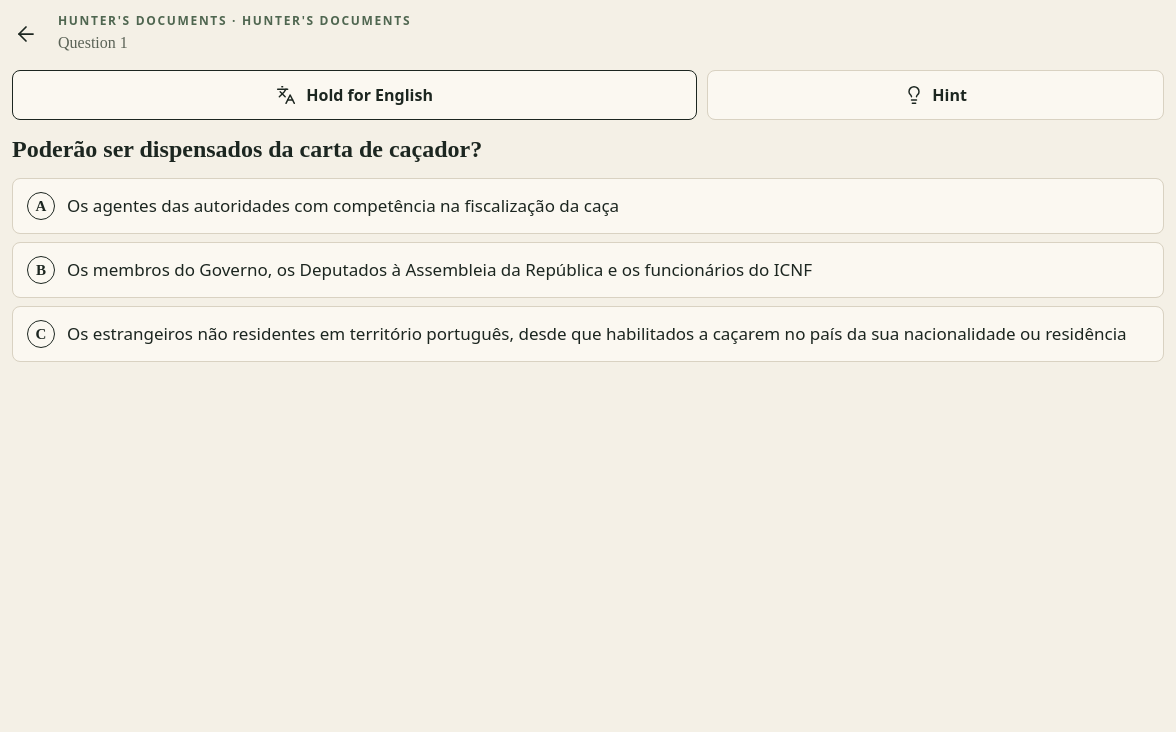
the flags row (D2) › a tap on Hint is off stores one hint flag with an empty note and opens the note field; Save stores the note; a second tap removes it
Click the 3rd button at (588, 206), box [12,178,1164,234]
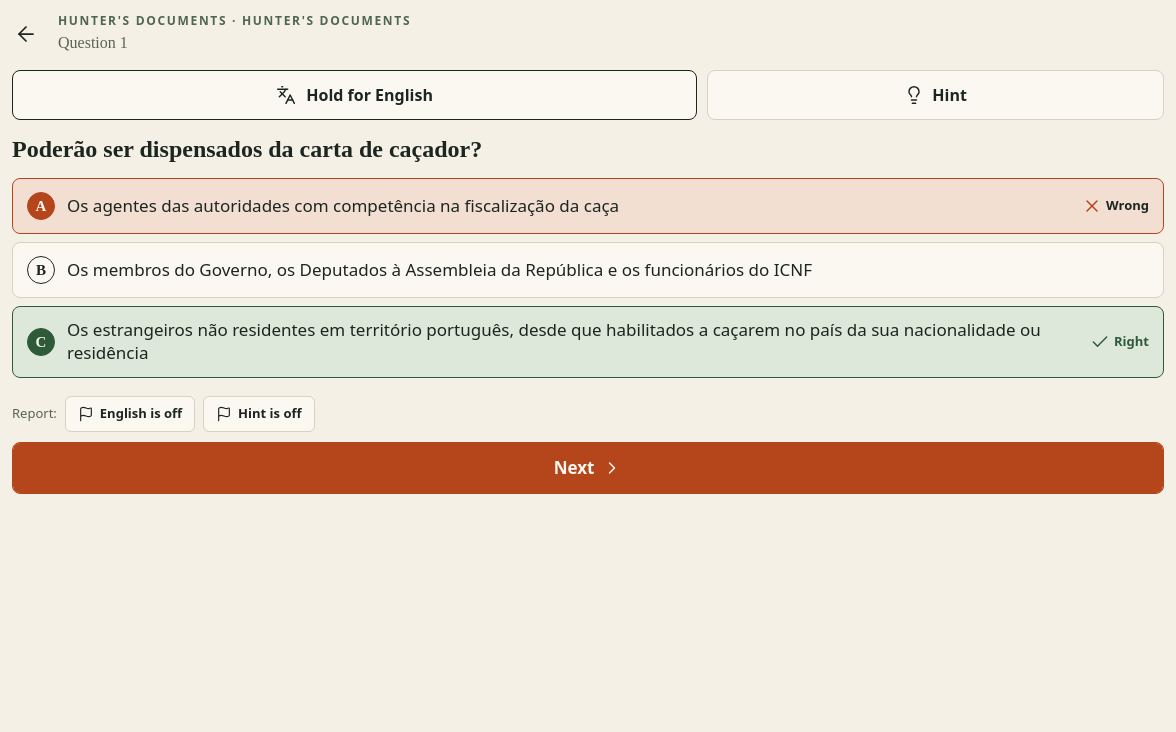
Check: the button "Hint is off" is enabled
Click the button "Hint is off" at (259, 414), box [203,396,314,432]
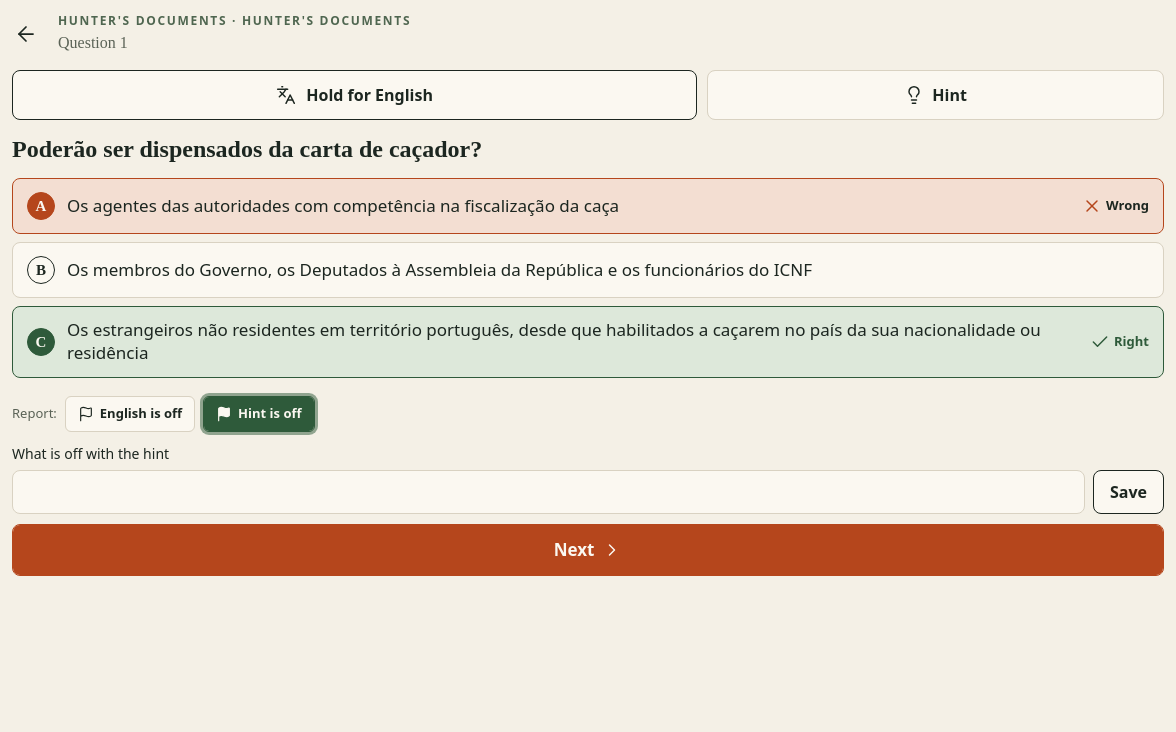
Check: the button "Hint is off" is pressed, box [203,396,314,432]
Type "wrong verb" into the field labelled "What is off with the hint" at (548, 492), box [12,470,1085,514]
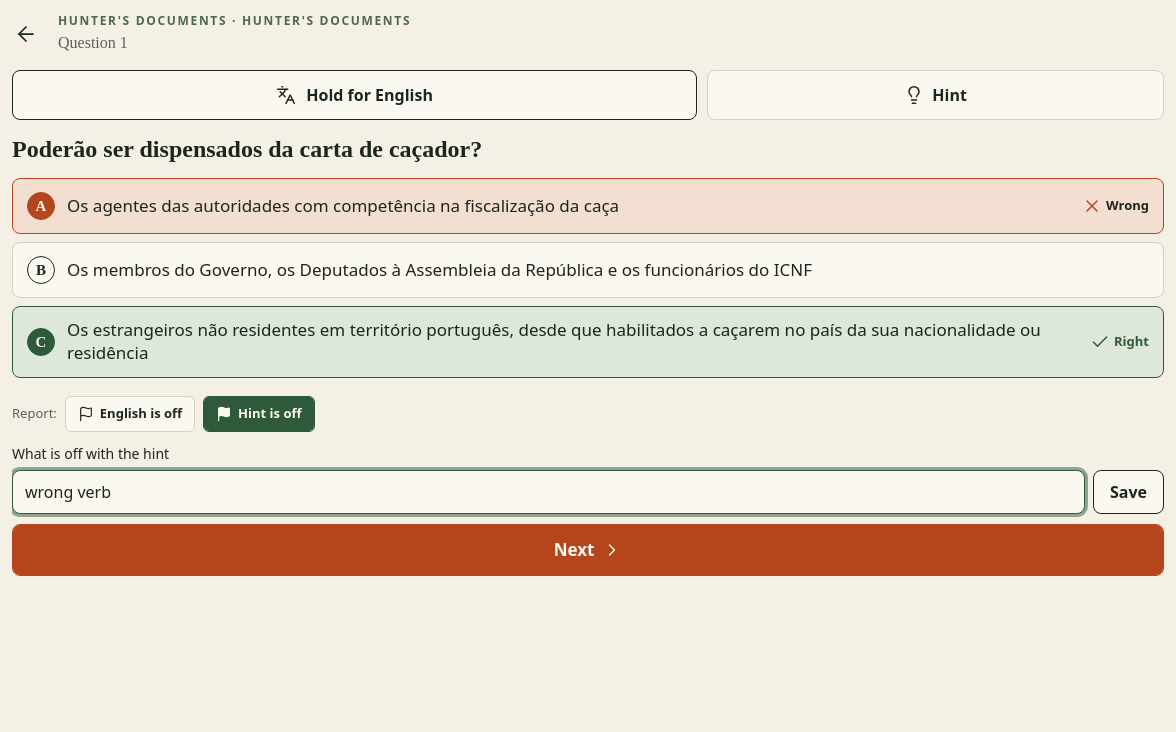
Click the button "Save" at (1128, 492), box [1093,470,1164,514]
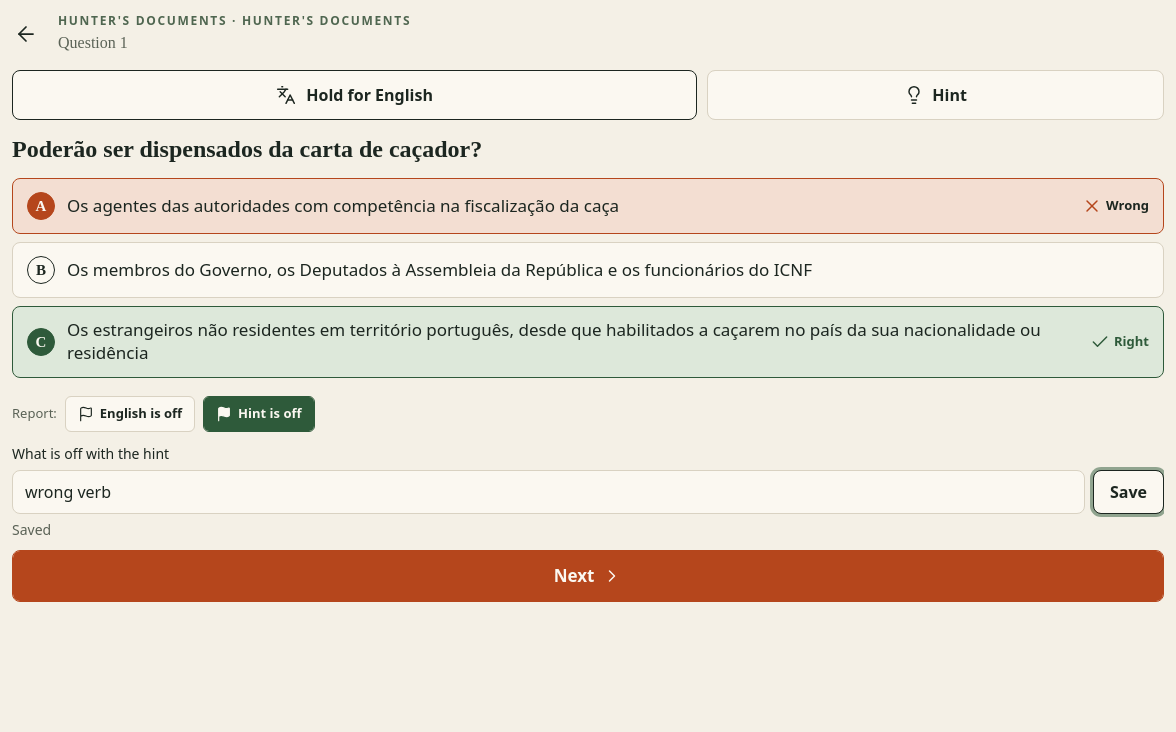
Check: the message reads "Saved", box [12,520,51,539]
Click the button "Hint is off" at (259, 414), box [203,396,314,432]
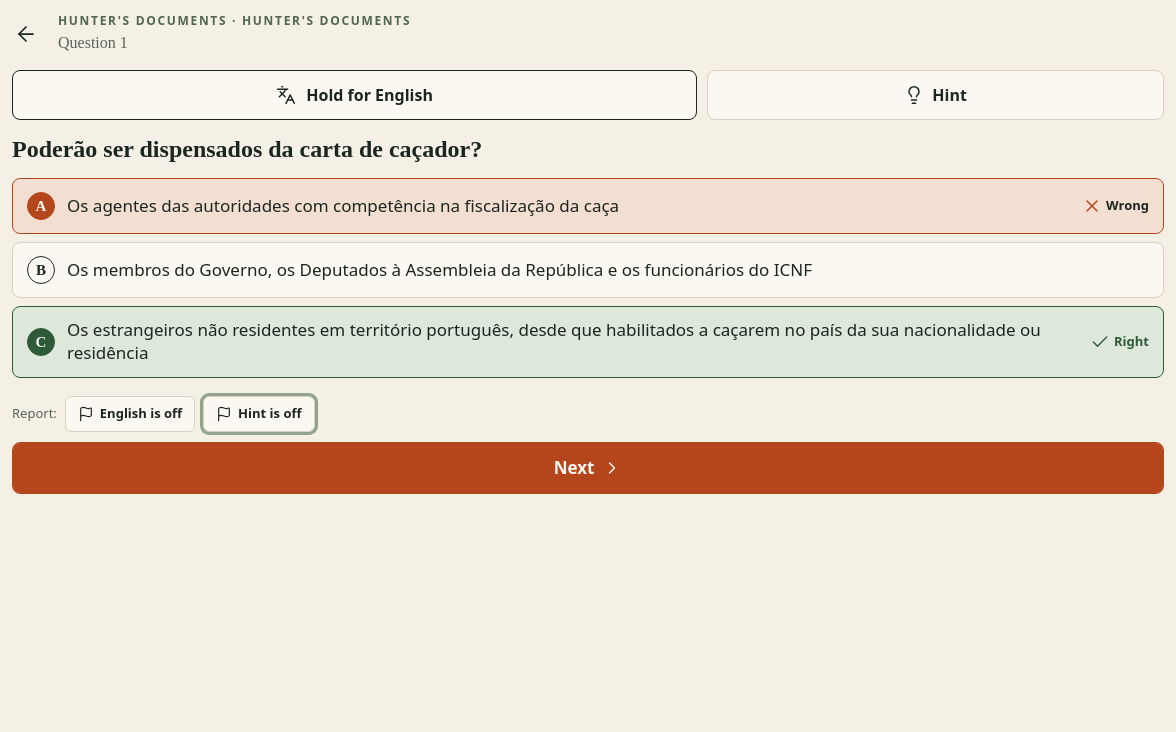
Check: the field is gone
